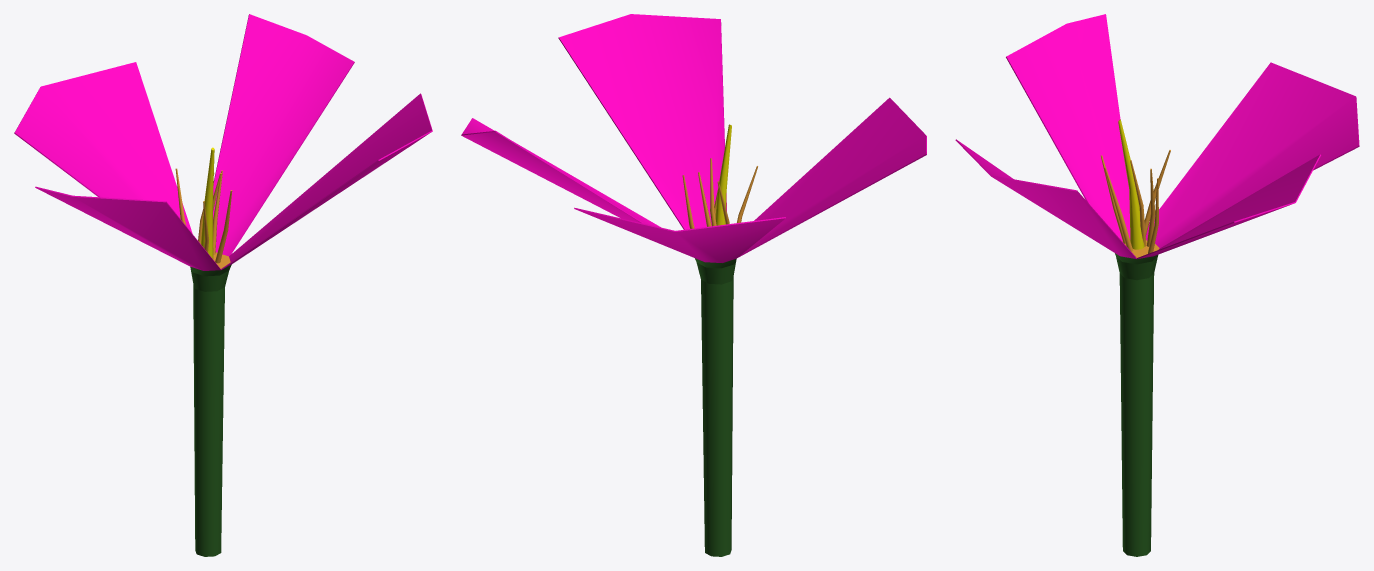
File: flower.fbx
The picture shows the model from 3 angles, left to right: view 1: azimuth 30°, elevation 25°; view 2: azimuth 150°, elevation 25°; view 3: azimuth 270°, elevation 25°; orthographic projection. The views are drawn at different scales.
Parts seen in each view (by area): view 1: цветок; view 2: цветок; view 3: цветок.
Boxes of the visible parts, x1,y1,x2,y2 form: цветок: (14,14,432,556); цветок: (461,14,926,556); цветок: (955,14,1359,556).
Bounding box in the file's own units: 77.85 × 86.22 × 68.27.
